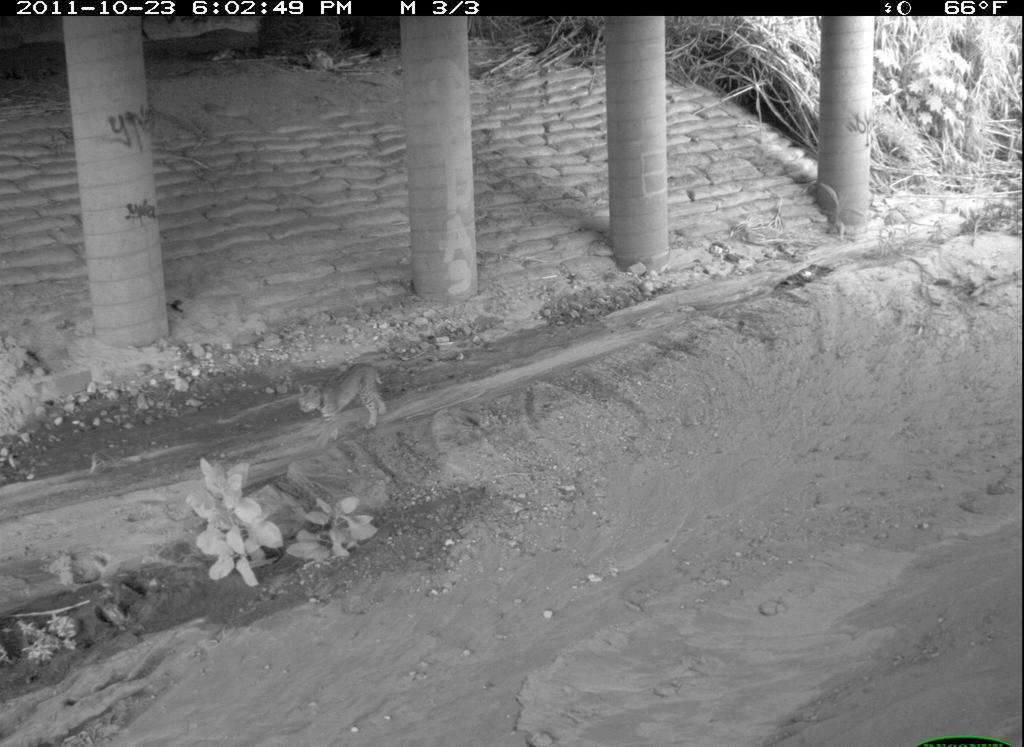bobcat: (587, 712, 781, 747)
